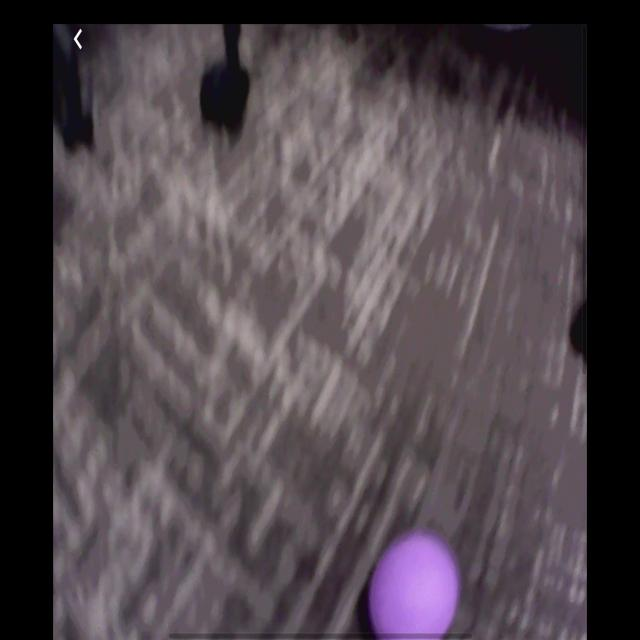ball: (368, 533, 457, 640)
